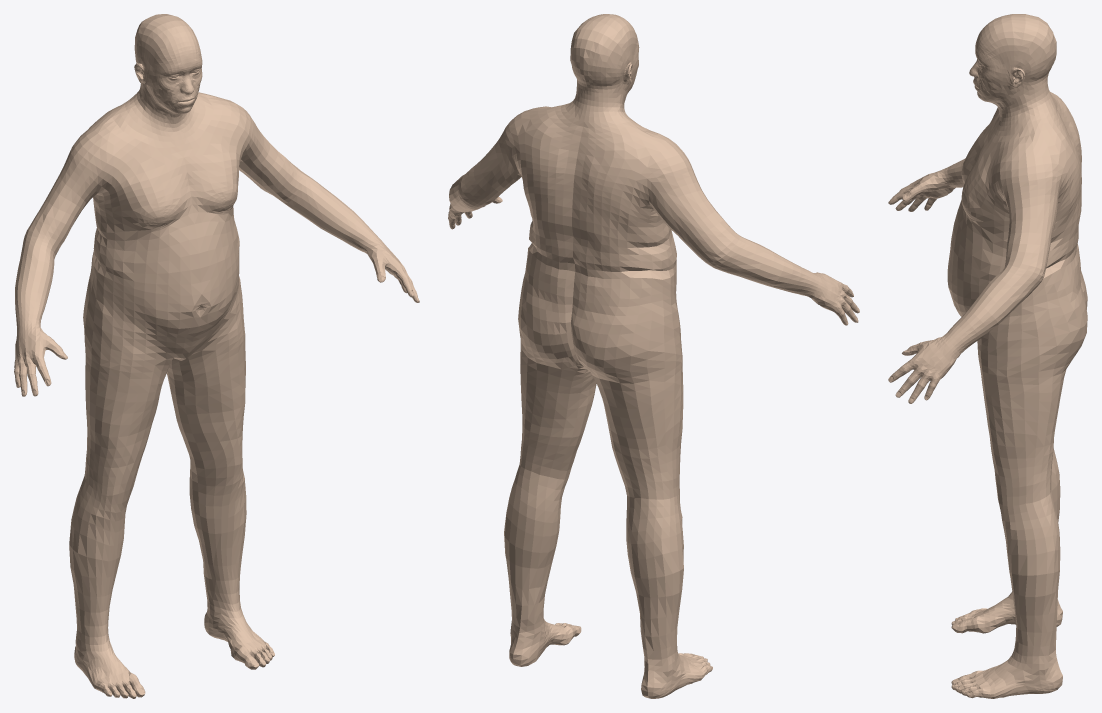
The model's file is male-mature-max-low.glb.
The picture shows the model from 3 angles, left to right: view 1: azimuth 30°, elevation 25°; view 2: azimuth 150°, elevation 25°; view 3: azimuth 270°, elevation 25°; orthographic projection.
Visible parts, largest first — view 1: world; view 2: world; view 3: world.
Boxes of the visible parts, left/top/right/bottom form: world: left=14, top=14, right=419, bottom=698; world: left=448, top=14, right=859, bottom=698; world: left=888, top=14, right=1087, bottom=698.
Bounding box in the file's own units: 1.25 × 1.94 × 0.5451.
